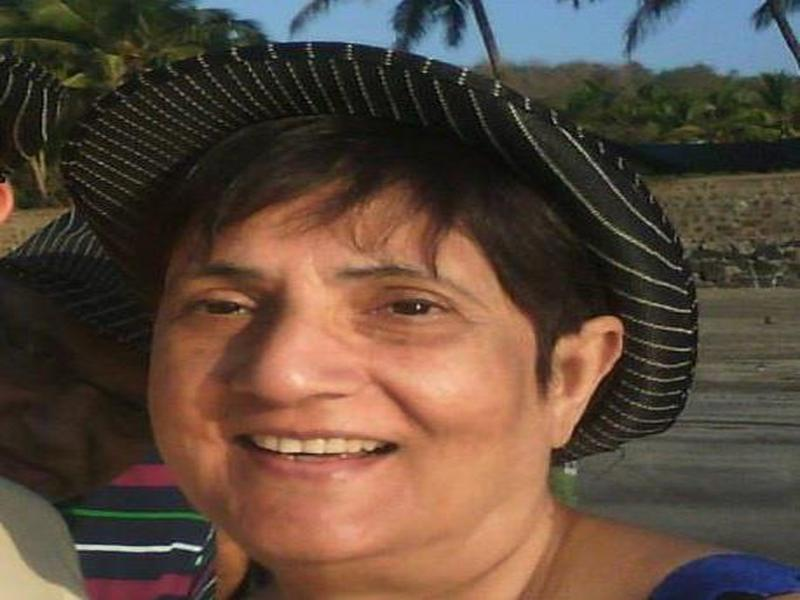without_mask: (148, 204, 525, 563)
